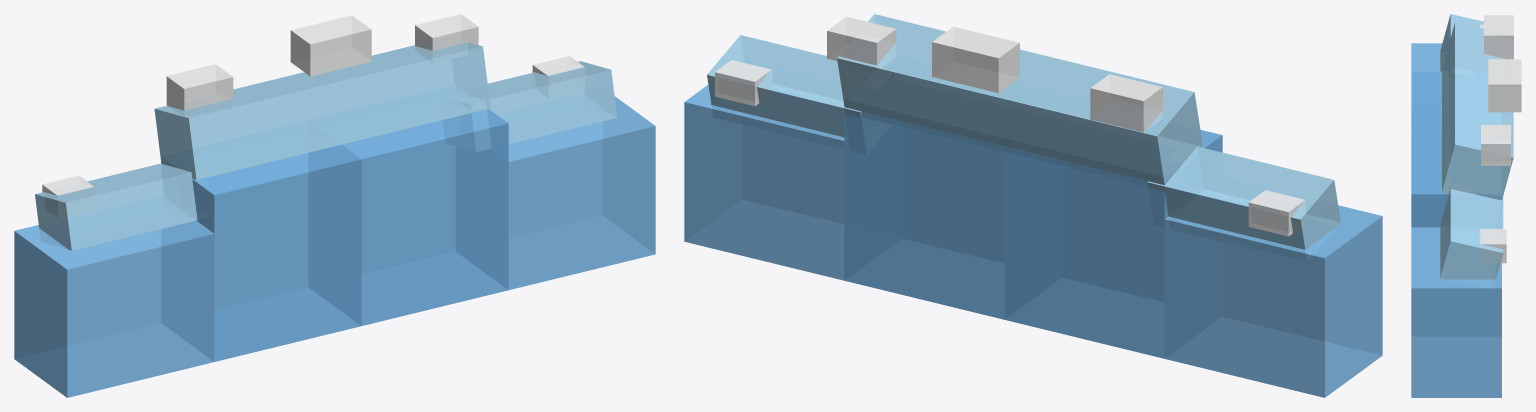
The model's file is WaterWave.fbx.
The picture shows the model from 3 angles, left to right: view 1: azimuth 30°, elevation 25°; view 2: azimuth 150°, elevation 25°; view 3: azimuth 270°, elevation 25°; orthographic projection. The views are drawn at different scales.
Parts seen in each view (by area): view 1: Wave_Body, Wave_Body.001, Wave_Body.002, Wave_Crest, Wave_Body.003, Wave_Crest.001, Wave_Crest.002, Wave_Foam.001, Wave_Foam, Wave_Foam.002, Wave_Foam.004, Wave_Foam.003; view 2: Wave_Body, Wave_Body.001, Wave_Body.002, Wave_Crest, Wave_Body.003, Wave_Crest.001, Wave_Crest.002, Wave_Foam.001, Wave_Foam, Wave_Foam.002, Wave_Foam.003, Wave_Foam.004; view 3: Wave_Body.003, Wave_Crest, Wave_Crest.002, Wave_Body.002, Wave_Body.001, Wave_Foam.001, Wave_Foam, Wave_Foam.002, Wave_Body, Wave_Crest.001, Wave_Foam.004.
Part boxes in pixels (x1,y1,x2,y2): Wave_Body: (14, 220, 214, 397); Wave_Body.001: (165, 144, 361, 361); Wave_Body.002: (342, 109, 508, 325); Wave_Crest: (154, 42, 490, 179); Wave_Body.003: (508, 96, 655, 289); Wave_Crest.001: (35, 163, 211, 250); Wave_Crest.002: (443, 61, 617, 151); Wave_Foam.001: (290, 15, 371, 76); Wave_Foam: (166, 64, 233, 110); Wave_Foam.002: (415, 14, 478, 50); Wave_Foam.004: (532, 56, 584, 75); Wave_Foam.003: (42, 175, 93, 195); Wave_Body: (1164, 205, 1382, 397); Wave_Body.001: (1004, 129, 1222, 358); Wave_Body.002: (844, 107, 1004, 319); Wave_Crest: (837, 14, 1202, 185); Wave_Body.003: (684, 85, 844, 280); Wave_Crest.001: (1147, 146, 1340, 261); Wave_Crest.002: (707, 35, 890, 154); Wave_Foam.001: (932, 26, 1019, 93); Wave_Foam: (1090, 74, 1162, 132); Wave_Foam.002: (827, 16, 896, 65); Wave_Foam.003: (1248, 190, 1304, 236); Wave_Foam.004: (715, 60, 771, 106); Wave_Body.003: (1411, 227, 1501, 397); Wave_Crest: (1442, 22, 1513, 200); Wave_Crest.002: (1440, 189, 1503, 289); Wave_Body.002: (1411, 133, 1501, 227); Wave_Body.001: (1411, 71, 1441, 226); Wave_Foam.001: (1488, 59, 1521, 112); Wave_Foam: (1484, 15, 1513, 59); Wave_Foam.002: (1481, 125, 1510, 165); Wave_Body: (1411, 43, 1442, 116); Wave_Crest.001: (1440, 14, 1483, 109); Wave_Foam.004: (1480, 229, 1506, 263).
Size of the model in its own units: 538 by 218 by 102.
